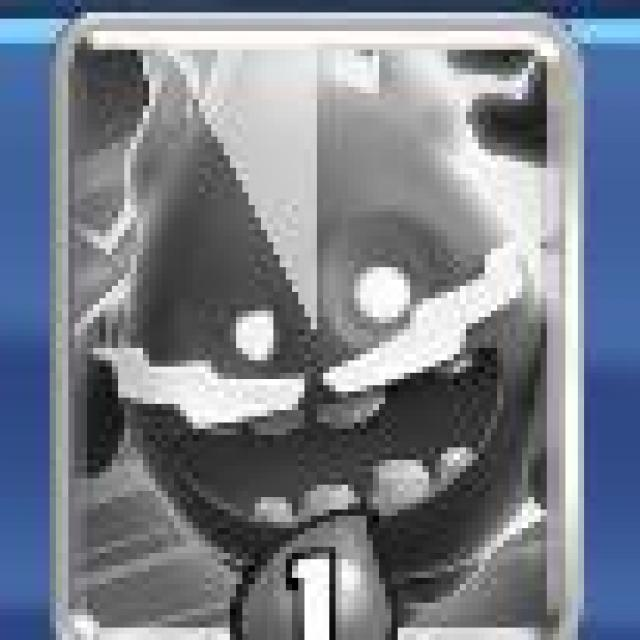Electro_Spirit: (44, 7, 590, 640)
